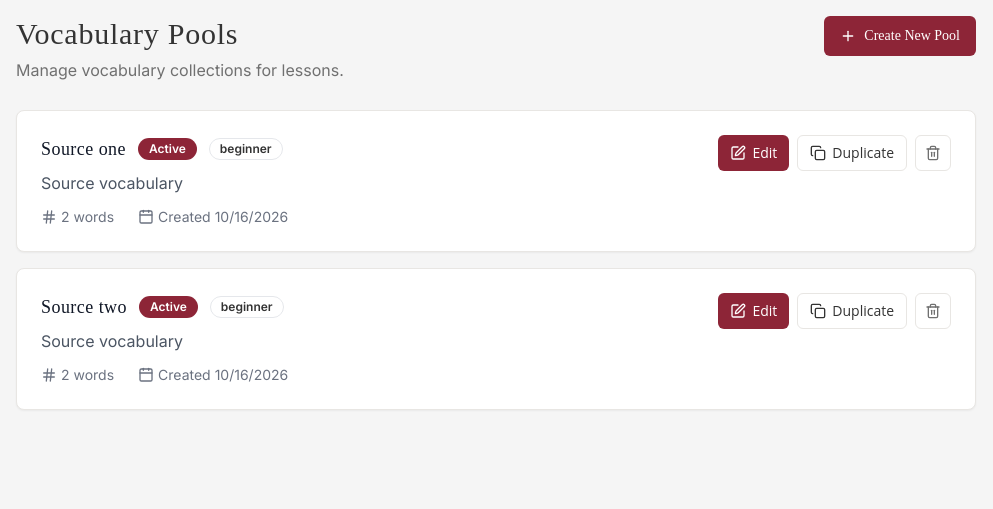
it: shows a persistent warning for a blocked challenge: Assignment checks are unavailable
Click the button named "Delete Source one": (933, 153) [915,135,951,171]
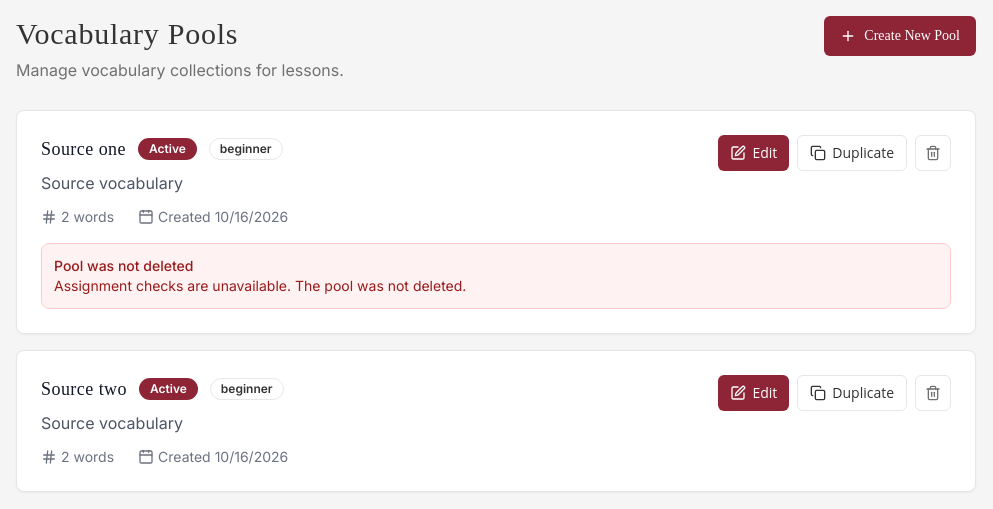
Check: the message shows "Assignment checks are unavailable", box [54,277,466,294]
